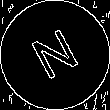N_SE: (25, 23, 85, 87)
